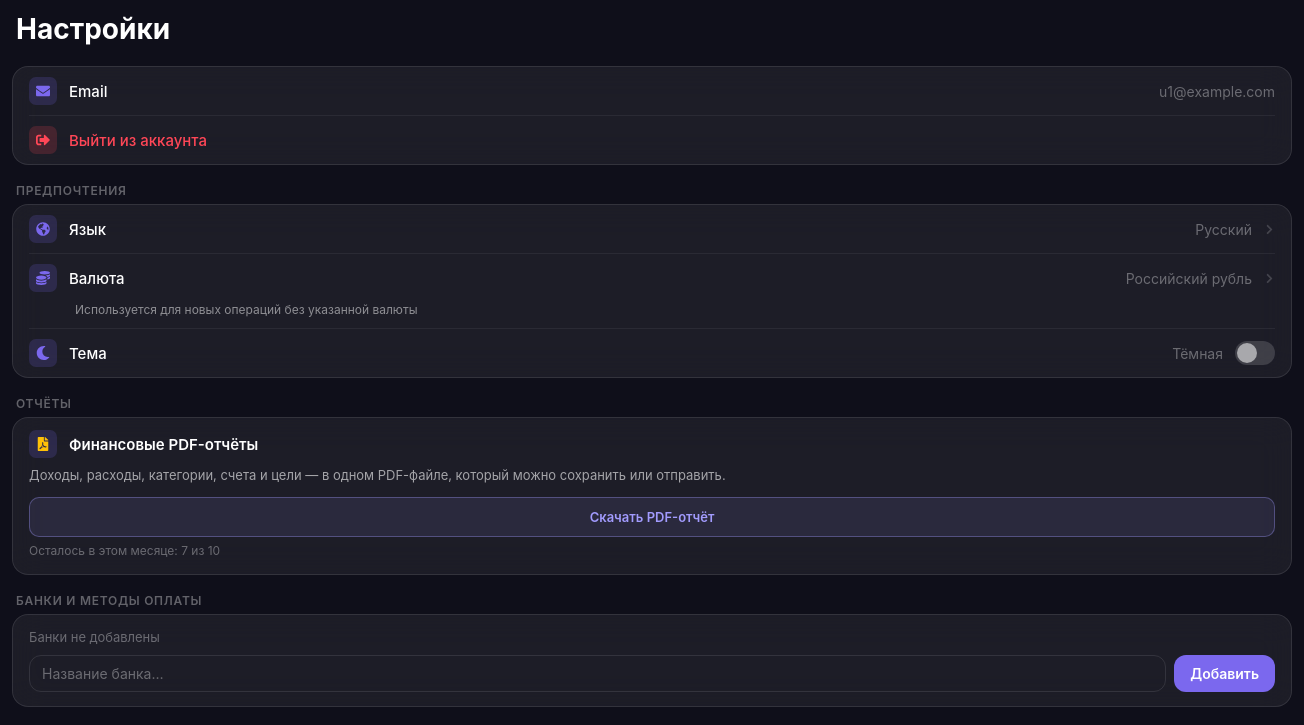
Test: Settings, Premium: download with the months remaining, from the same export
This screenshot has width=1304, height=725.
expect the text "Осталось в этом месяце: 7 из 10" is shown: met, box [29,543,220,558]
Click the button "Скачать PDF-отчёт": (652, 517) [29,497,1275,537]
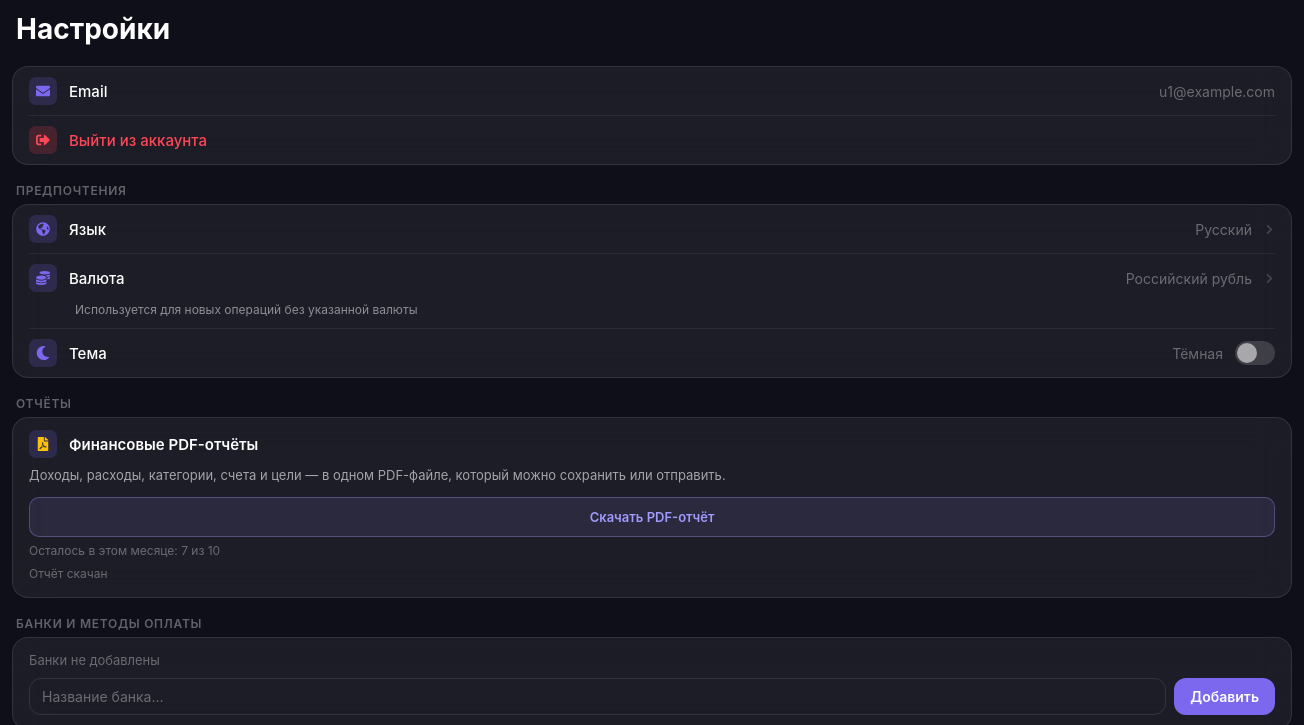
expect the text "Отчёт скачан" is shown: met, box [29,566,108,581]
